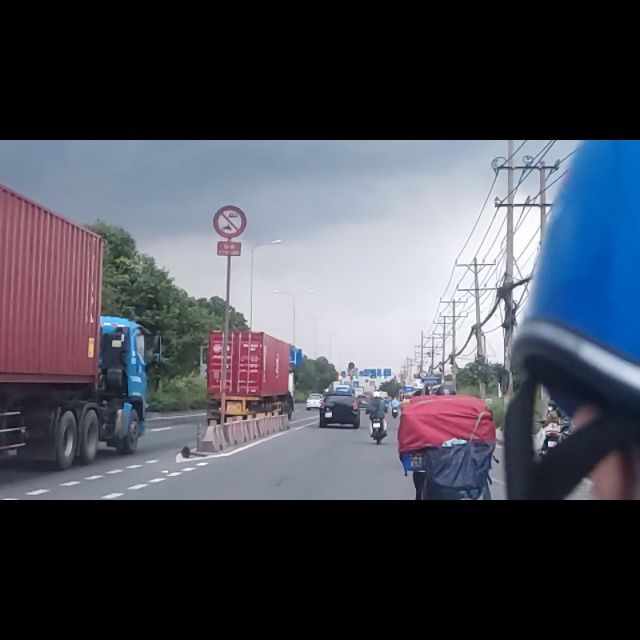bien_cam: (213, 116, 247, 174)
